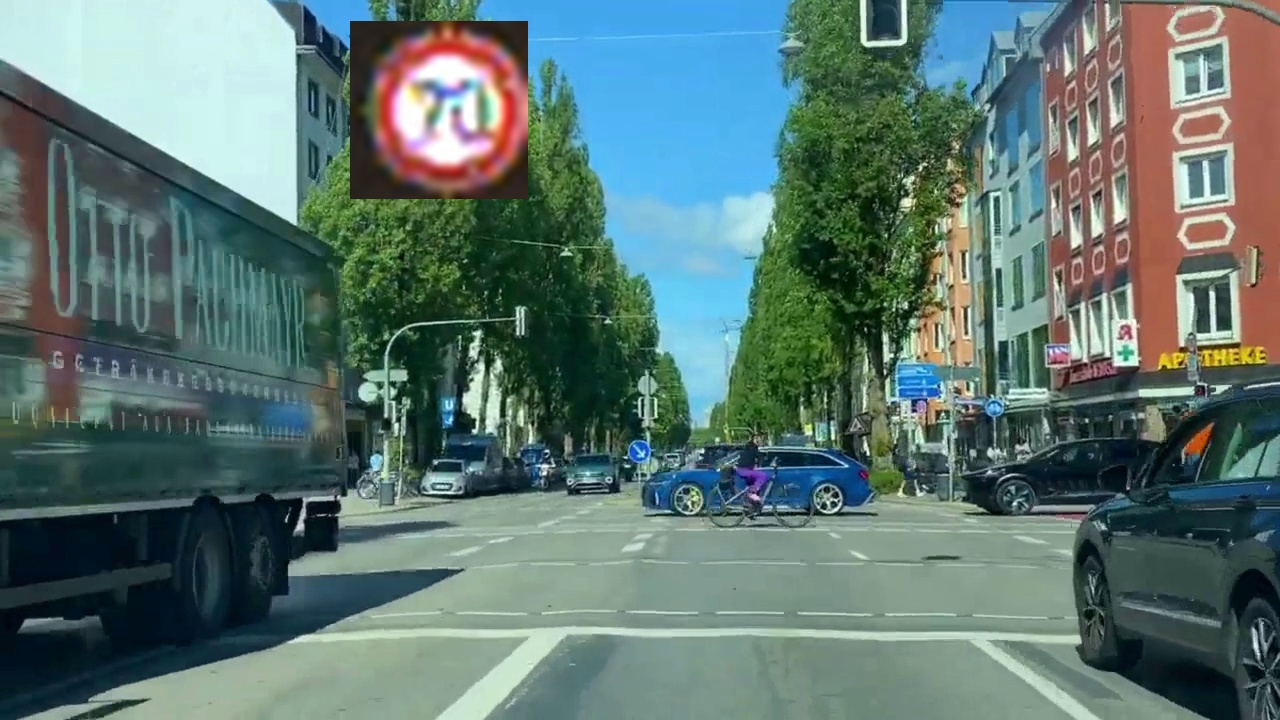Speed 70: (350, 21, 528, 199)
